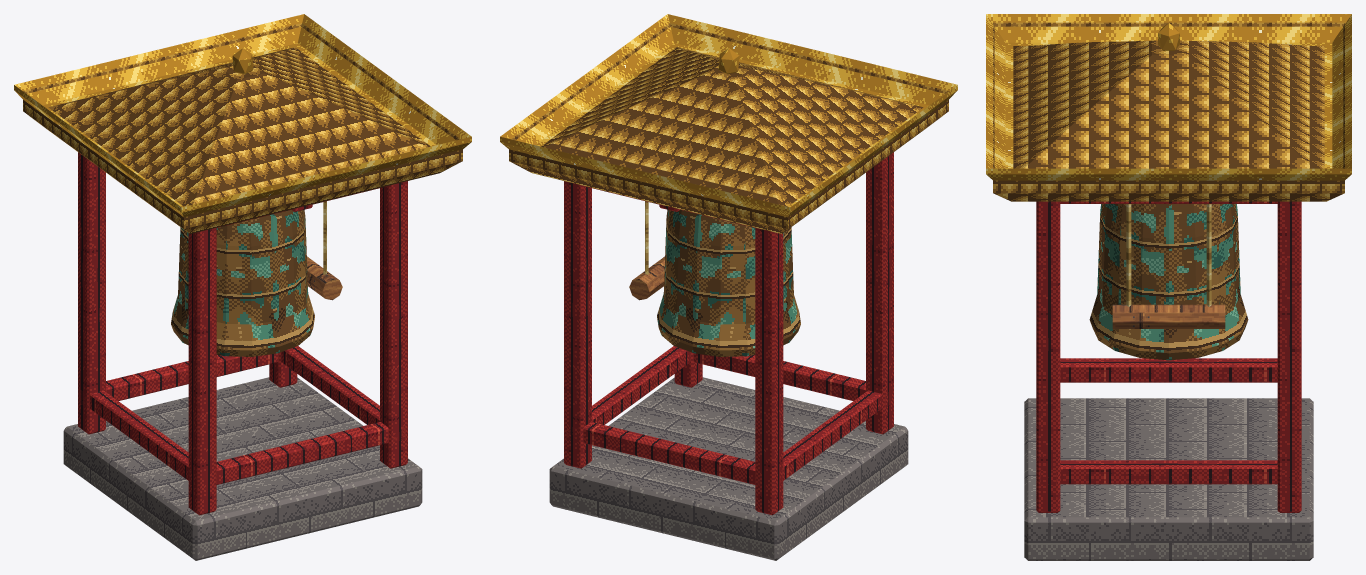
Rendered from bell_belfry.glb.
3 views of the same model, side by side, from view 1: azimuth 30°, elevation 25°; view 2: azimuth 150°, elevation 25°; view 3: azimuth 270°, elevation 25° (orthographic). The views are drawn at different scales.
Visible parts, largest first — view 1: Belfry, Bell; view 2: Belfry, Bell; view 3: Belfry, Bell.
Boxes of the visible parts, x1,y1,x2,y2 form: Belfry: (14,14,471,560); Bell: (171,209,314,356); Belfry: (500,14,957,560); Bell: (657,209,800,356); Belfry: (986,14,1351,560); Bell: (1089,204,1248,360).
Bounding box in the file's own units: 4.55 × 6.57 × 4.55.
Materials: 7 (7 with a texture image).
